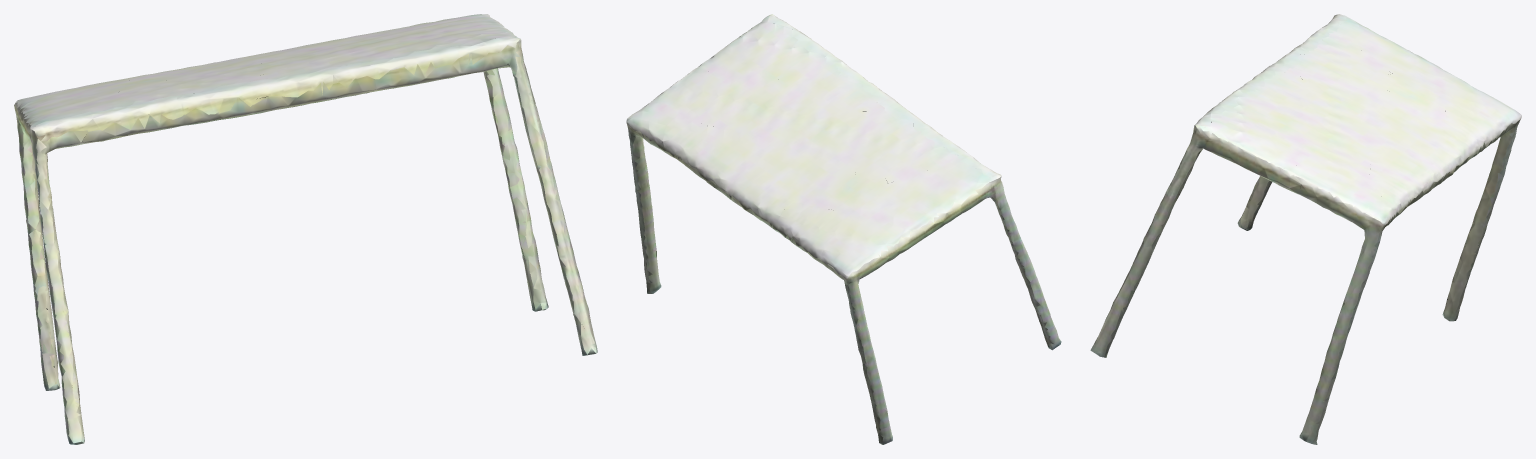
File: test_table_obj2.glb
3 views of the same model, side by side, from view 1: azimuth 30°, elevation 25°; view 2: azimuth 150°, elevation 25°; view 3: azimuth 270°, elevation 25° (orthographic). The views are drawn at different scales.
Parts seen in each view (by area): view 1: world; view 2: world; view 3: world.
Part boxes in pixels (x1,y1,x2,y2): world: (14,14,597,444); world: (626,14,1061,444); world: (1090,14,1521,444).
Bounding box in the file's own units: 1.01 × 0.7275 × 0.893.
Materials: 1 (1 with a texture image).
